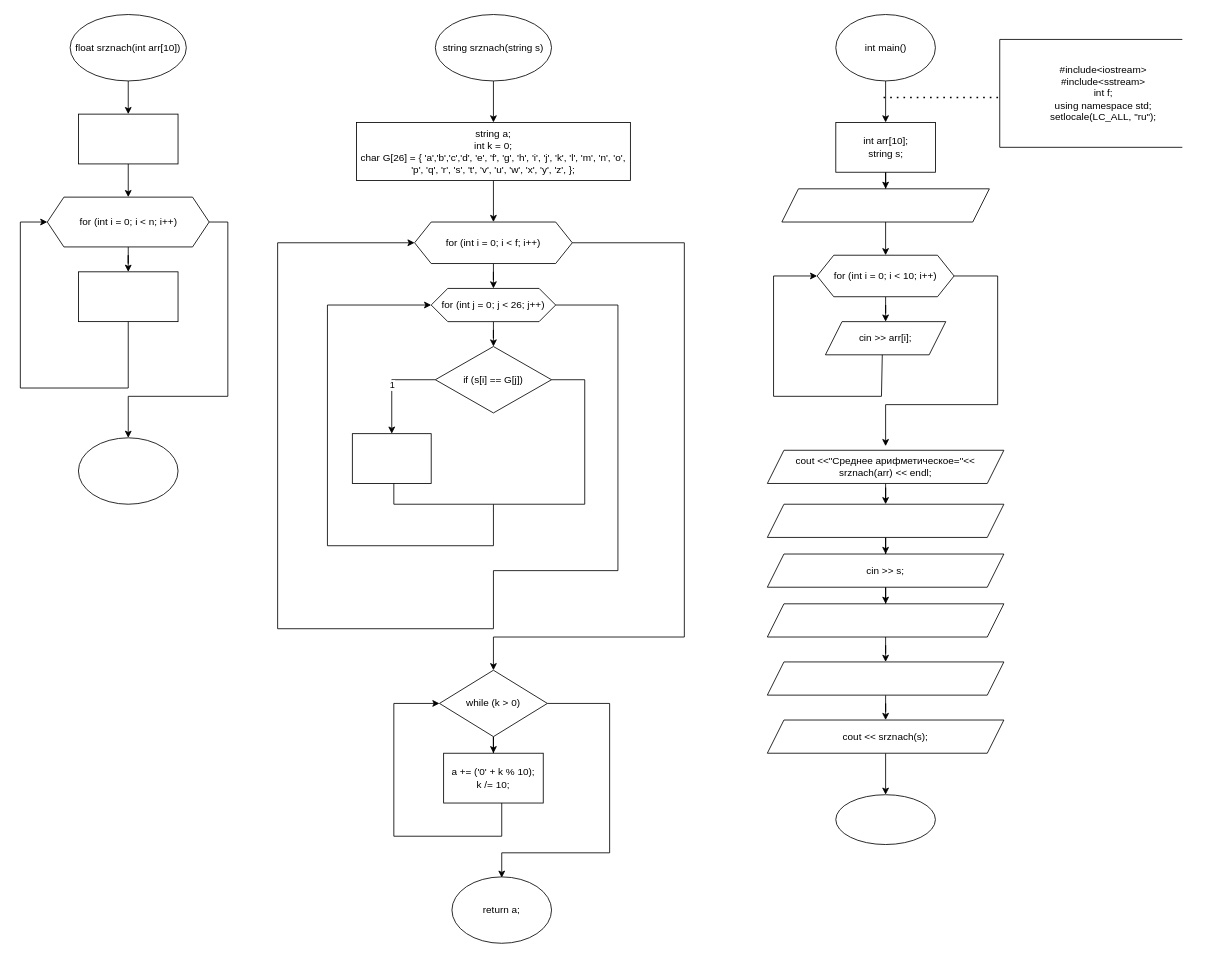
Some shapes in this 1222 by 958 pixel diagram are drawn without their labels. The shapes that lost their labels are listed below. From the top down, each one's centre as x and y in pixels, then its label:
the point at 128,138: float n = 10; float s = 0;
the point at 885,205: cout << "Введите массив чисел" << endl;
the point at 128,296: s = s + arr[i];
the point at 128,470: return s / n;
the point at 391,458: k = k + 1;
the point at 885,520: cout << "Введите строку";
the point at 885,620: cout << "Введите количество символов";
the point at 885,678: cin >> f;
the point at 885,819: return 0;
